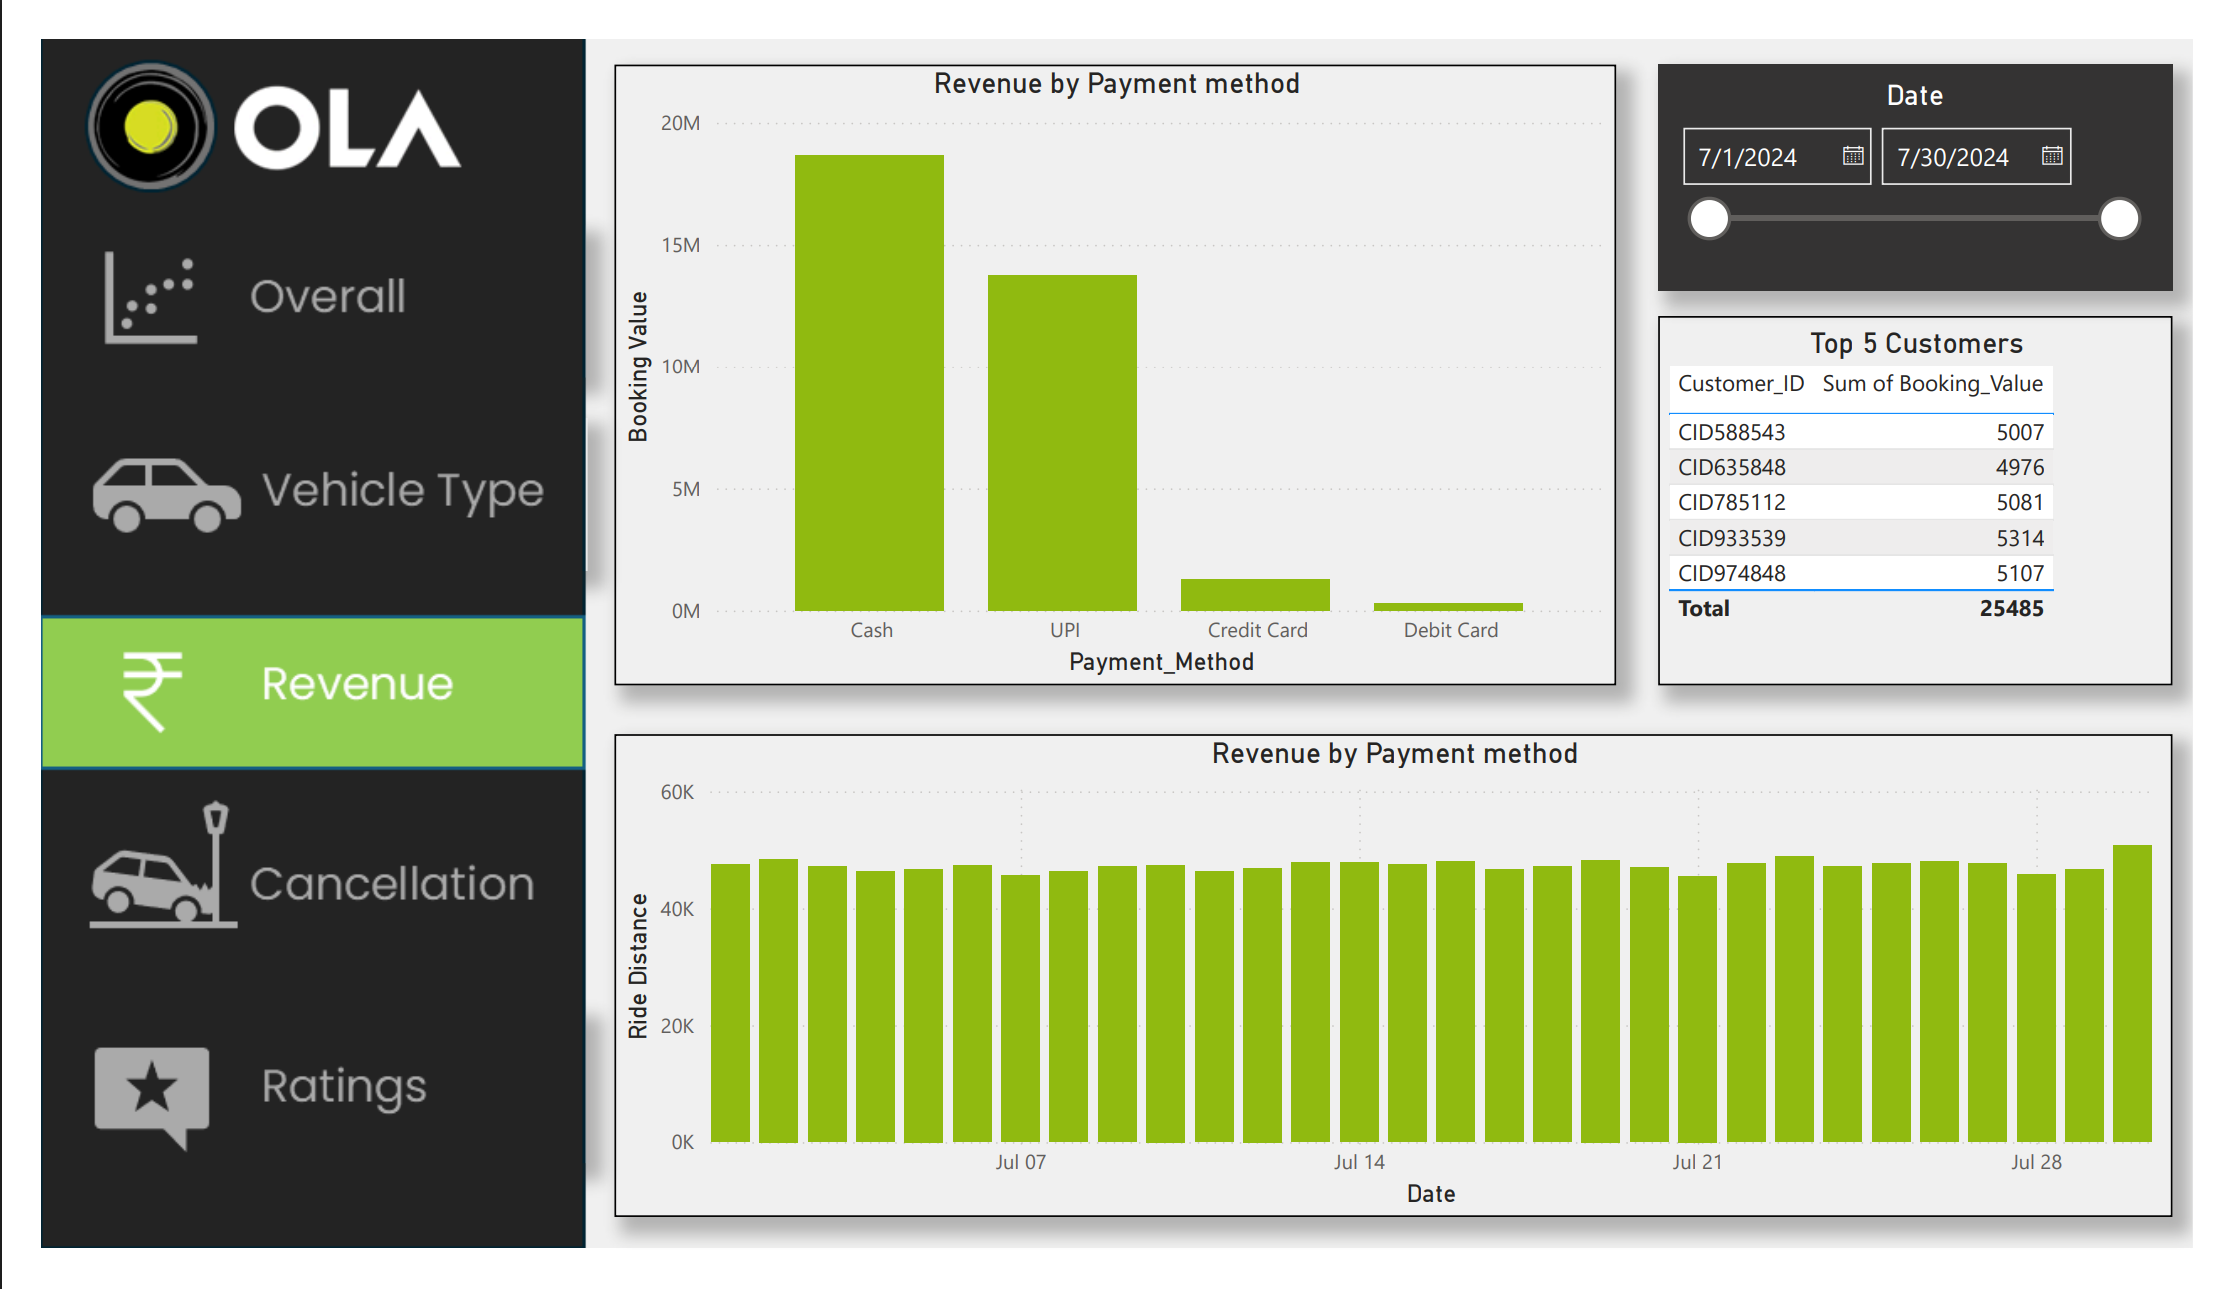

This screenshot's page, from the dashboard's own definition file:
{"tool":"powerbi","page":{"name":"Revenue","canvas":[1280,720],"ordinal":2},"visuals":[{"type":"actionButton","box":[0,447.4,325,91.3],"z":0},{"type":"actionButton","box":[0,576.6,323.9,91.3],"z":1000},{"type":"actionButton","box":[1.1,224.8,323.9,91.3],"z":2000},{"type":"actionButton","box":[0,110.2,323.9,91.3],"z":3000},{"type":"columnChart","title":"Revenue by Payment method","fields":{"Y":["Sum(July.Booking_Value)"],"Category":["July.Payment_Method"]},"box":[341.4,15.3,595.6,369],"z":4000},{"type":"columnChart","title":"Revenue by Payment method","fields":{"Y":["Sum(July.Ride_Distance)"],"Category":["July.Date"]},"box":[341.4,413.4,926.3,286.3],"z":4001},{"type":"slicer","title":"Date","fields":{"Values":["July.Date"]},"box":[961.5,15.3,306.2,133.2],"z":4002},{"type":"tableEx","title":"Top 5 Customers","fields":{"Values":["July.Customer_ID","Sum(July.Booking_Value)"]},"box":[961.5,163.8,306.2,220.5],"z":4003}]}

Visuals, with their boxes in screenshot pixels (x1, y1, x2, y2), scaled from the page's 1280x720 canvas onto the 2224x1289 screenshot:
actionButton: [0,801,565,964]
actionButton: [0,1032,563,1196]
actionButton: [2,402,565,566]
actionButton: [0,197,563,361]
"Revenue by Payment method" columnChart: [593,27,1628,688]
"Revenue by Payment method" columnChart: [593,740,2203,1253]
"Date" slicer: [1671,27,2203,266]
"Top 5 Customers" tableEx: [1671,293,2203,688]
